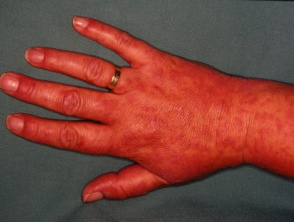SJS-TEN: (108, 46, 294, 188)
